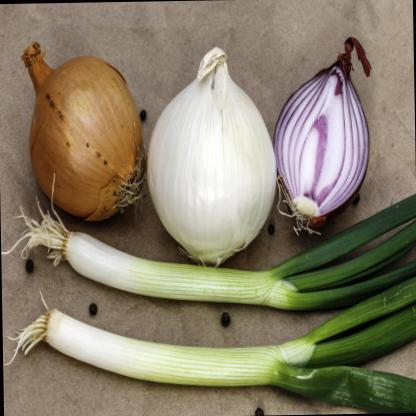onion: (153, 32, 281, 268), (11, 21, 152, 226), (272, 46, 379, 232)
